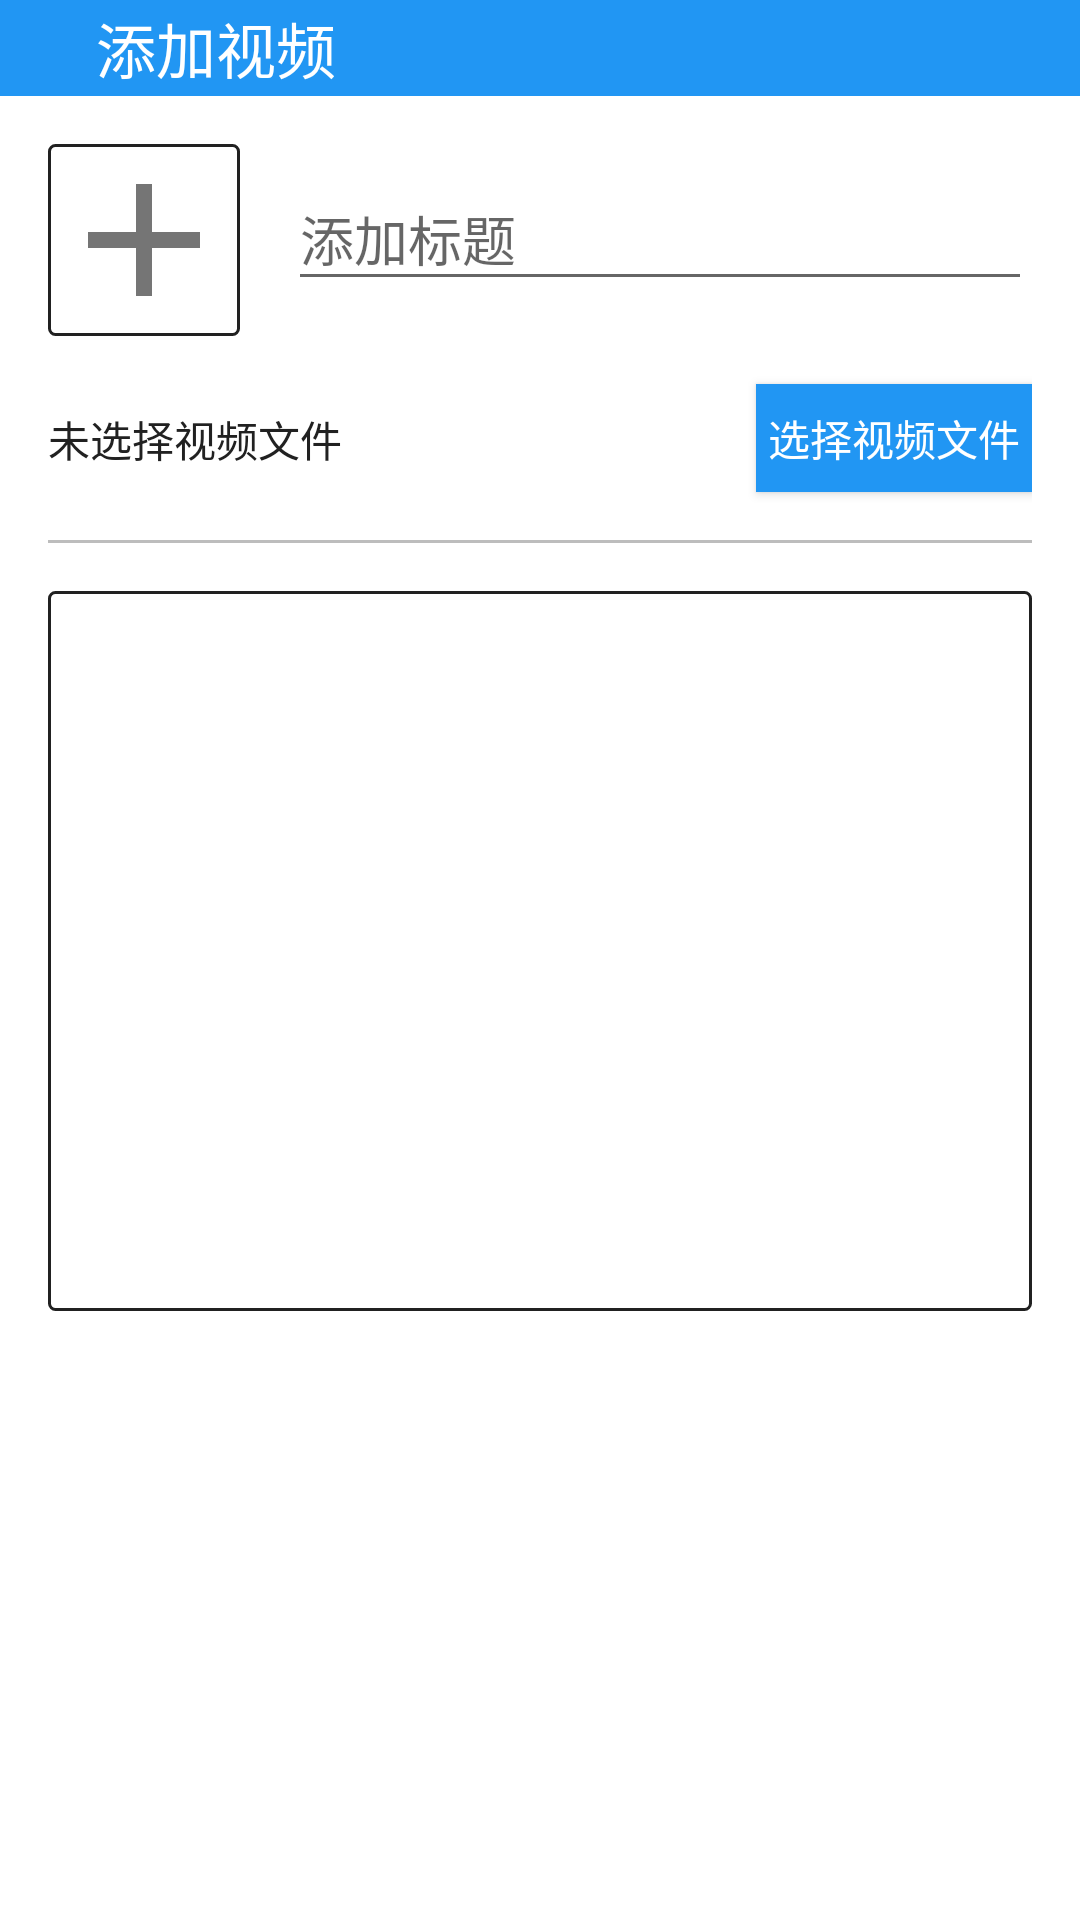

Named icons in this screenshot (1080x1920) and their bounding boxes, (x1, y1, x2, y2):
add: (48, 144, 240, 336)
